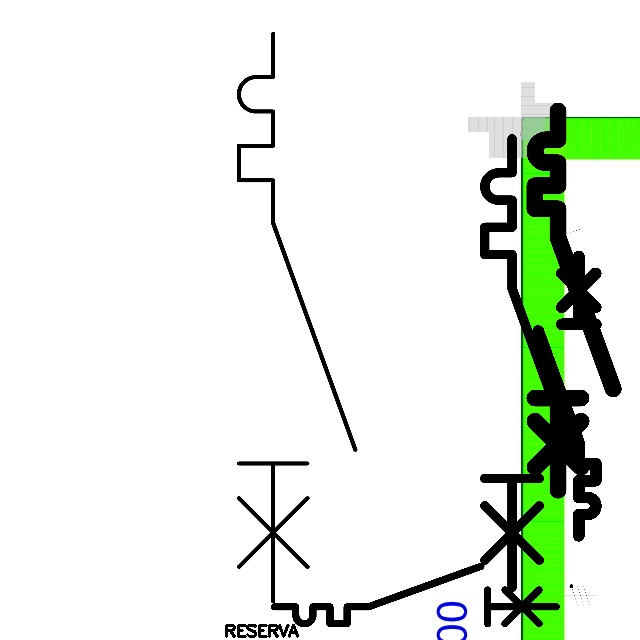interruptor_termomagnetico: (224, 19, 370, 616), (473, 127, 588, 599), (525, 101, 622, 500), (267, 559, 563, 631), (531, 249, 603, 542)
